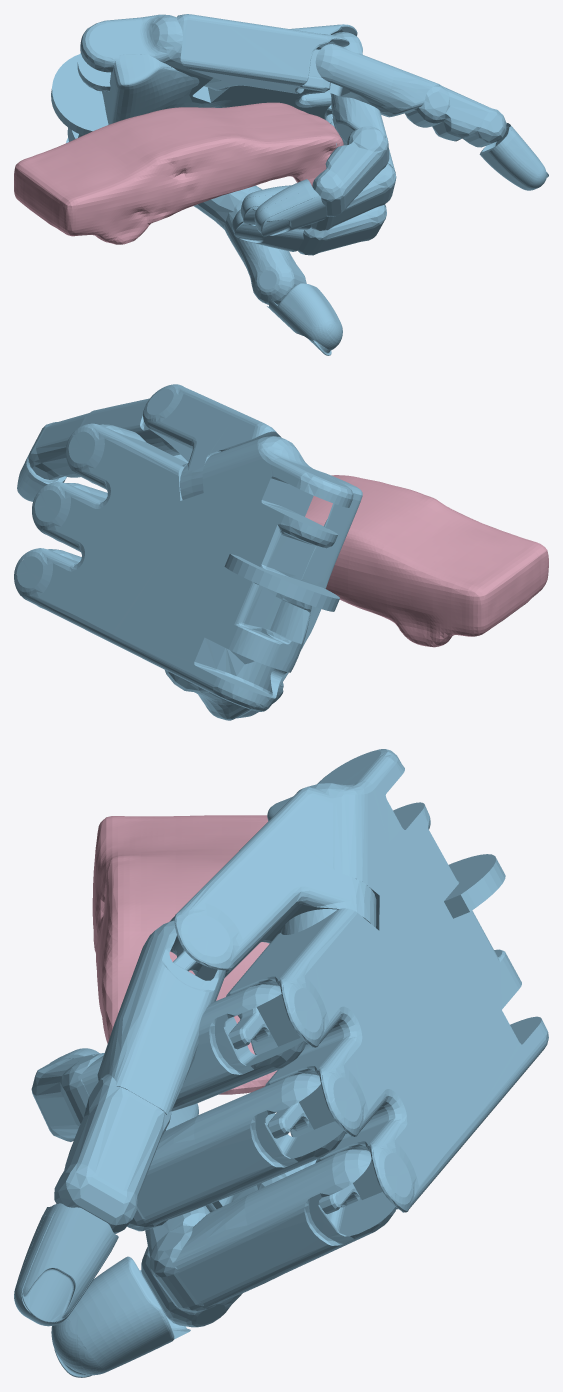
The picture shows the model from 3 angles, top to bottom: view 1: azimuth 30°, elevation 25°; view 2: azimuth 150°, elevation 25°; view 3: azimuth 270°, elevation 25°; orthographic projection. The views are drawn at different scales.
Visible parts, largest first — view 1: hand, world; view 2: hand, world; view 3: hand, world.
Boxes of the visible parts, bbox=[...] form: hand: bbox=[51, 14, 548, 355]; world: bbox=[14, 102, 343, 244]; hand: bbox=[14, 384, 362, 720]; world: bbox=[305, 475, 548, 647]; hand: bbox=[14, 749, 548, 1377]; world: bbox=[92, 815, 277, 1094].
Bounding box in the file's own units: 0.2082 × 0.1325 × 0.1225.
